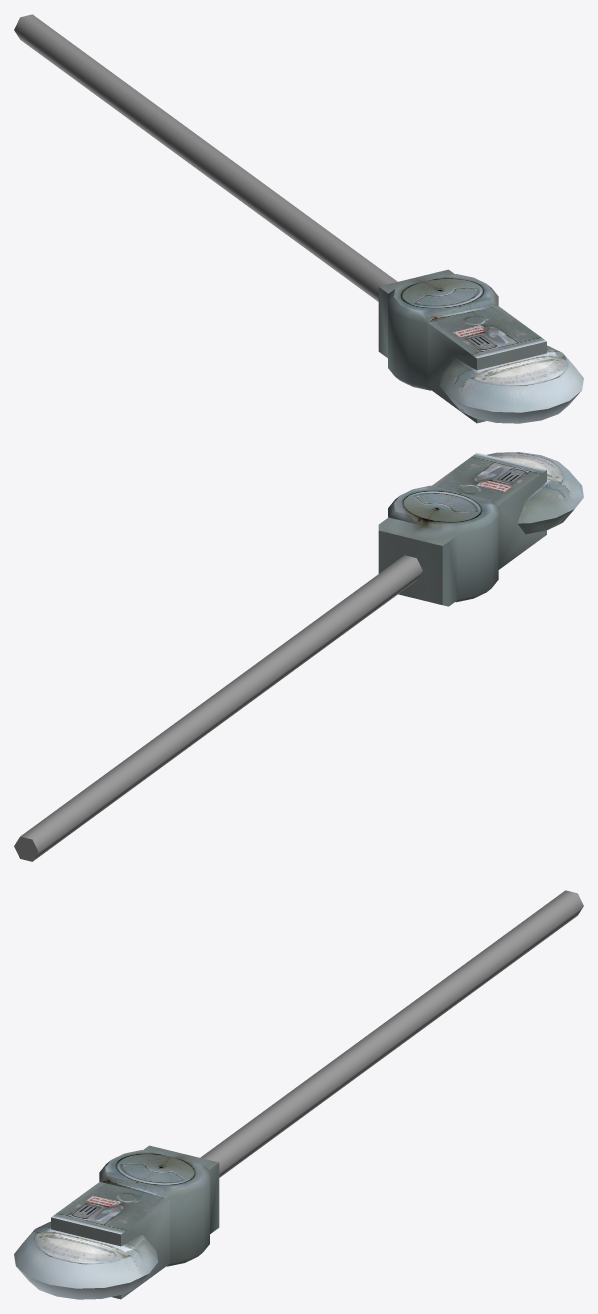
File: Traffic_Meter.obj
The picture shows the model from 3 angles, top to bottom: view 1: azimuth 30°, elevation 25°; view 2: azimuth 150°, elevation 25°; view 3: azimuth 330°, elevation 25°; orthographic projection.
Visible parts, largest first — view 1: Traffic_Meter; view 2: Traffic_Meter; view 3: Traffic_Meter.
Part boxes in pixels (left/top/right/bottom): Traffic_Meter: left=14, top=14, right=583, bottom=423; Traffic_Meter: left=14, top=452, right=583, bottom=861; Traffic_Meter: left=14, top=890, right=583, bottom=1299.
Size of the model in its own units: 0.2594 by 0.1496 by 1.86.
2 materials, 1 textured.
